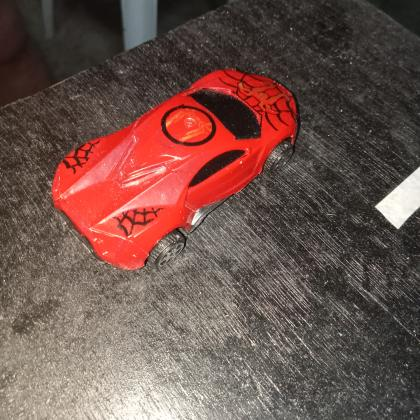Car: (52, 67, 298, 271)
